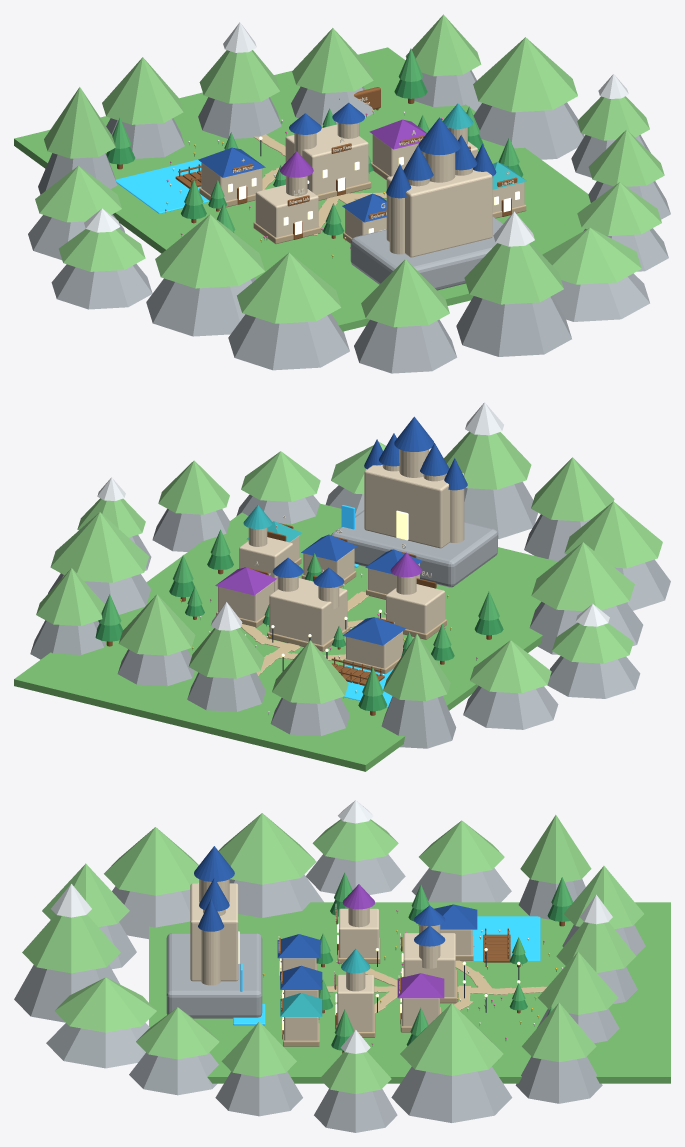
The model's file is genius-academy.glb.
3 views of the same model, one above another, from view 1: azimuth 30°, elevation 25°; view 2: azimuth 150°, elevation 25°; view 3: azimuth 270°, elevation 25° (orthographic). The views are drawn at different scales.
Visible parts, largest first — view 1: World Ground, Academy Castle Keep, Distant Hill.012, Distant Green Cap.009, Distant Hill.010, Distant Green Cap.001, Distant Green Cap.010, Distant Green Cap.012, Castle Cliff, Distant Hill.009, Distant Hill.011, Distant Hill.001 (+41 smaller); view 2: World Ground, Academy Castle Keep, Castle Cliff, Distant Green Cap.009, Distant Green Cap.001, Story Keep Body, Distant Green Cap.010, Distant Green Cap.012, Distant Green Cap.011, Distant Hill.007, Distant Hill.008, Distant Hill.012 (+40 smaller); view 3: World Ground, Castle Cliff, Distant Hill.001, Distant Green Cap.001, Distant Green Cap.009, Distant Green Cap.010, Distant Green Cap.012, Distant Green Cap.013, Distant Hill.013, Distant Hill.002, Distant Hill.015, Distant Hill.012 (+43 smaller).
Part boxes in pixels (<box>): World Ground: <box>14,47,590,331</box>; Academy Castle Keep: <box>386,170,492,257</box>; Distant Hill.012: <box>456,295,571,356</box>; Distant Green Cap.009: <box>155,214,264,288</box>; Distant Hill.010: <box>228,313,349,370</box>; Distant Green Cap.001: <box>473,37,577,112</box>; Distant Green Cap.010: <box>237,252,341,323</box>; Distant Green Cap.012: <box>464,242,563,304</box>; Castle Cliff: <box>350,217,502,290</box>; Distant Hill.009: <box>146,277,255,336</box>; Distant Hill.011: <box>354,319,456,373</box>; Distant Hill.001: <box>473,102,584,159</box>; World Ground: <box>14,503,557,771</box>; Academy Castle Keep: <box>364,465,464,548</box>; Castle Cliff: <box>331,510,497,587</box>; Distant Green Cap.009: <box>531,542,634,611</box>; Distant Green Cap.001: <box>50,512,149,582</box>; Story Keep Body: <box>269,578,347,645</box>; Distant Green Cap.010: <box>564,501,662,568</box>; Distant Green Cap.012: <box>444,431,531,489</box>; Distant Green Cap.011: <box>531,457,614,521</box>; Distant Hill.007: <box>463,685,558,729</box>; Distant Hill.008: <box>547,656,640,698</box>; Distant Hill.012: <box>464,481,537,538</box>; World Ground: <box>149,902,670,1083</box>; Castle Cliff: <box>166,933,262,1018</box>; Distant Hill.001: <box>391,1066,512,1122</box>; Distant Green Cap.001: <box>400,1003,503,1075</box>; Distant Green Cap.009: <box>218,813,316,884</box>; Distant Green Cap.010: <box>104,827,198,895</box>; Distant Green Cap.012: <box>22,914,120,973</box>; Distant Green Cap.013: <box>55,977,156,1032</box>; Distant Hill.013: <box>46,1023,149,1068</box>; Distant Hill.002: <box>515,1056,602,1103</box>; Distant Hill.015: <box>215,1071,302,1116</box>; Distant Hill.012: <box>14,965,120,1022</box>.
Bounding box in the file's own units: 60.45 × 15.6 × 60.43.
